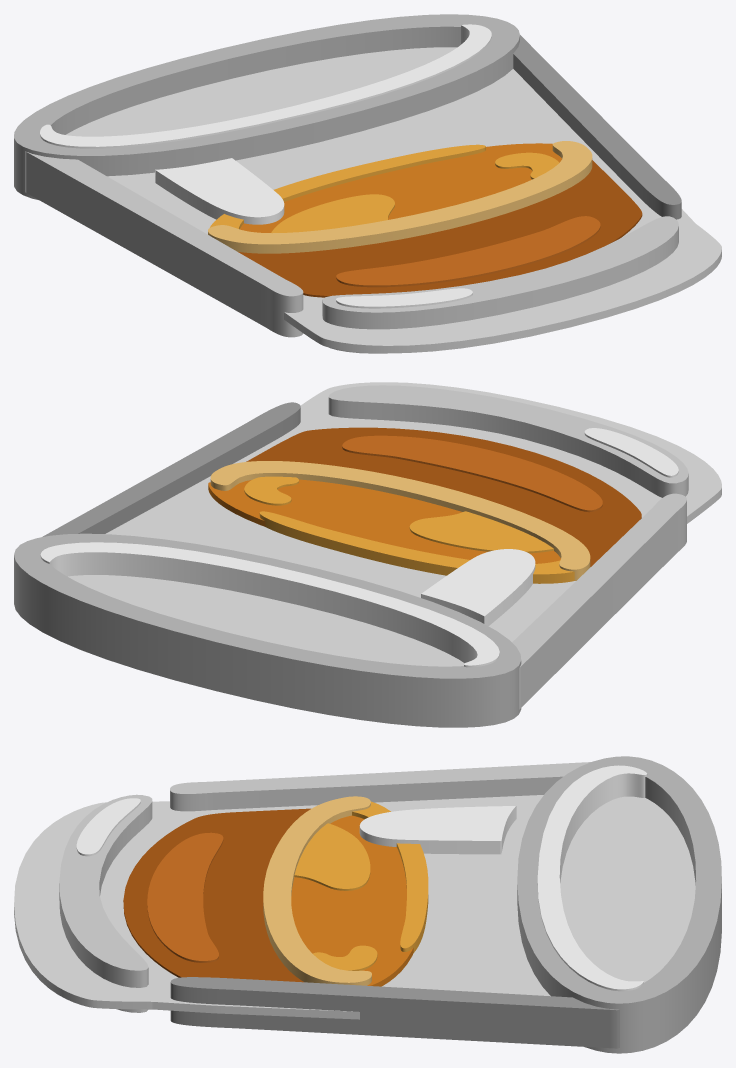
File: emoji_u1f943.glb
The picture shows the model from 3 angles, top to bottom: view 1: azimuth 30°, elevation 25°; view 2: azimuth 150°, elevation 25°; view 3: azimuth 270°, elevation 25°; orthographic projection. The views are drawn at different scales.
Visible parts, largest first — view 1: emoji_u1f943; view 2: emoji_u1f943; view 3: emoji_u1f943.
Boxes of the visible parts, <box> form: emoji_u1f943: <box>14,14,721,353</box>; emoji_u1f943: <box>14,382,721,727</box>; emoji_u1f943: <box>14,756,721,1053</box>.
Bounding box in the file's own units: 0.0277 × 0.0028 × 0.0334.
